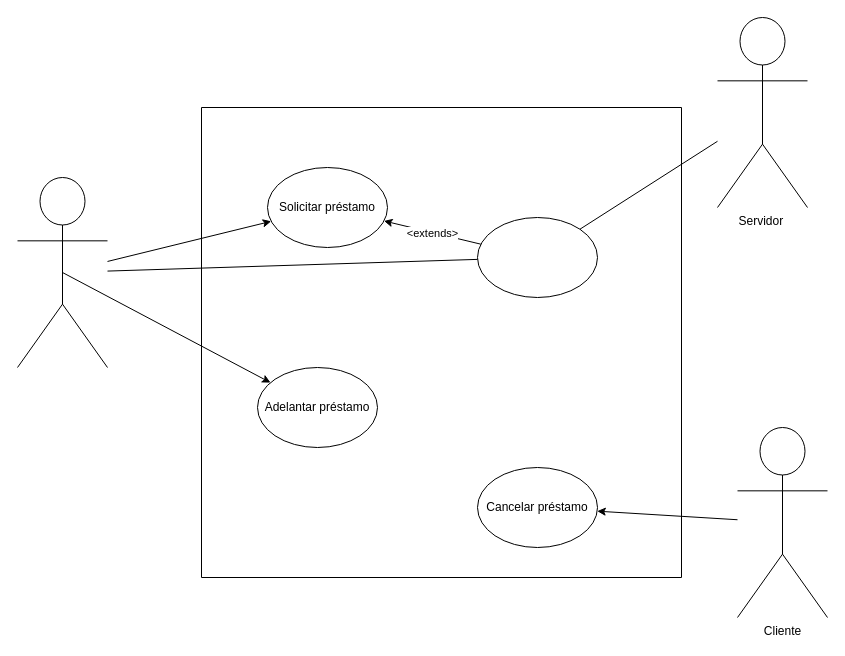
Some shapes in this 845 by 656 pixel diagram are drawn without their labels. The centre of each missing label's shape, as x and y in pixels:
"Comprobar veraz" belongs at point 537,257.
"Usuario web" belongs at point 62,272.
